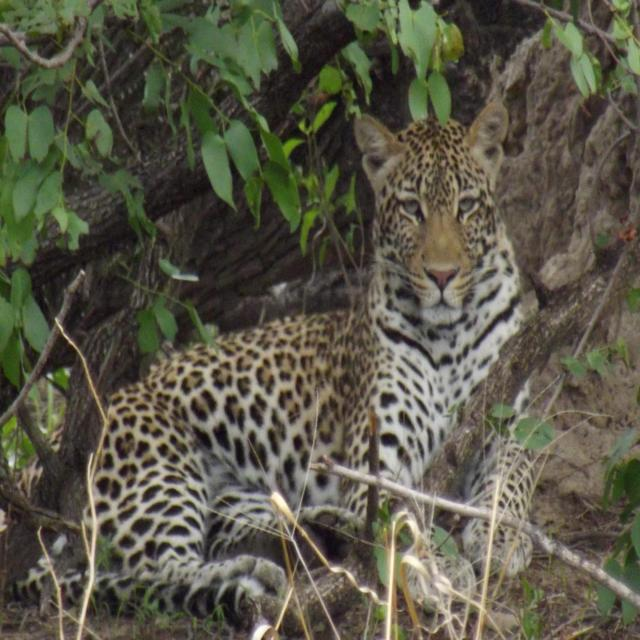Leopard: (0, 114, 550, 621)
